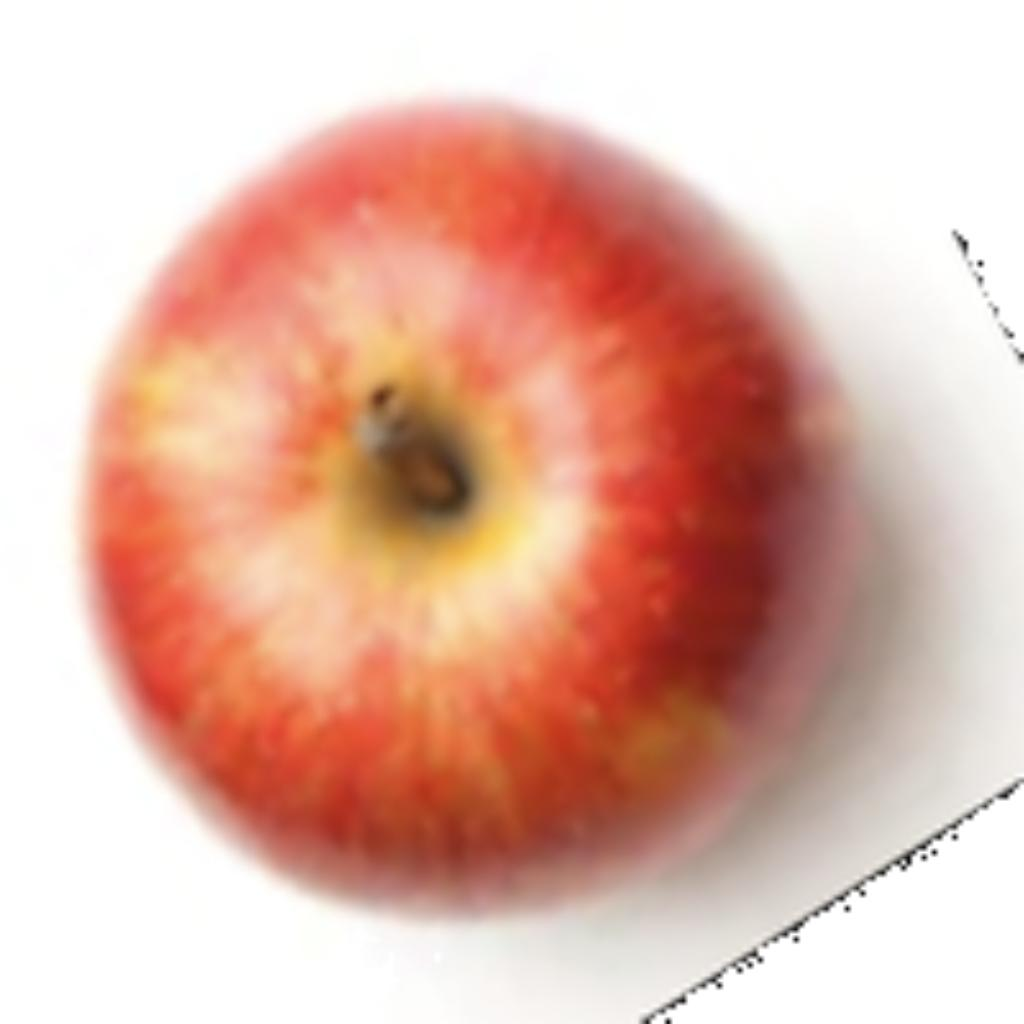apple: (61, 82, 1019, 1019)
